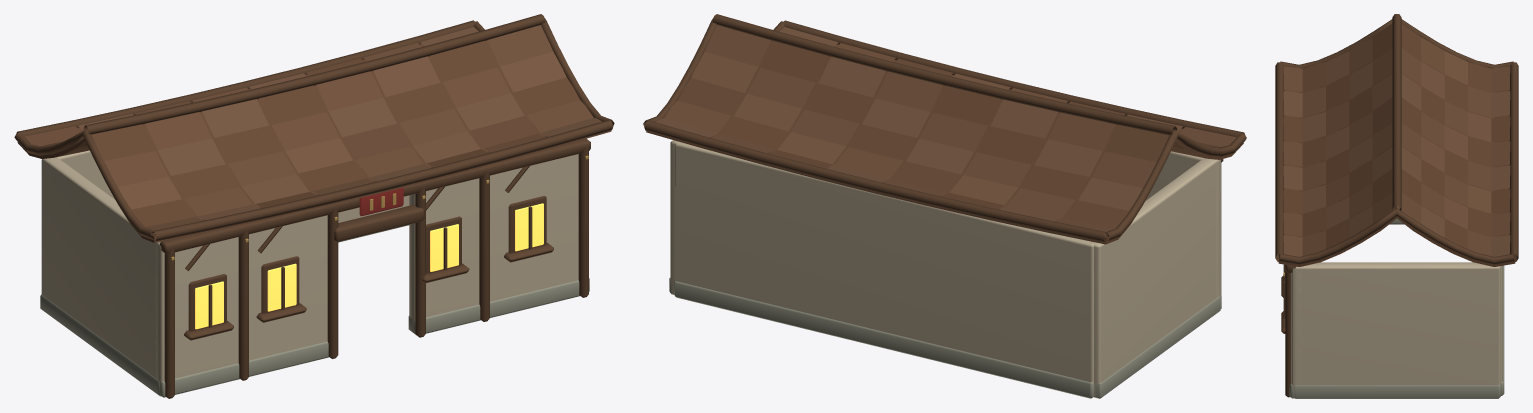
Rendered from dormitory.glb.
3 renders of one model, left to right at view 1: azimuth 30°, elevation 25°; view 2: azimuth 150°, elevation 25°; view 3: azimuth 270°, elevation 25°, orthographic. The views are drawn at different scales.
Visible parts, largest first — view 1: dormitory-exterior; view 2: dormitory-exterior; view 3: dormitory-exterior.
Boxes of the visible parts, x1,y1,x2,y2 form: dormitory-exterior: (14,14,614,398); dormitory-exterior: (643,14,1246,398); dormitory-exterior: (1275,14,1518,398).
Bounding box in the file's own units: 6.46 × 3.07 × 3.4.
